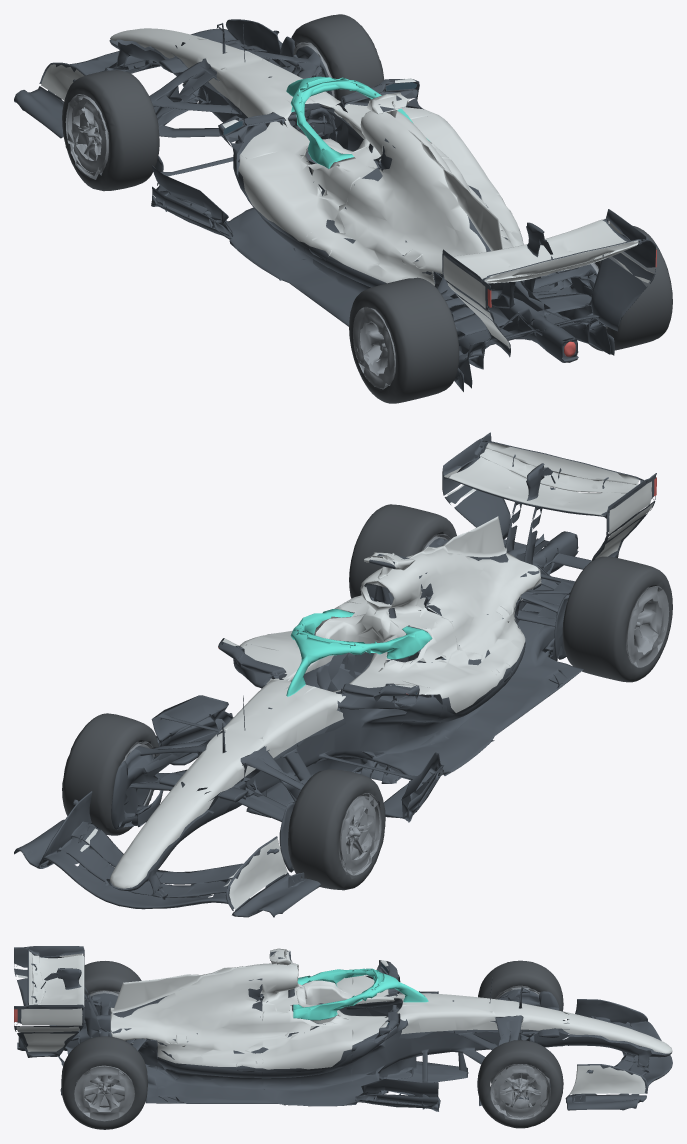
Rendered from mercedes-far.glb.
The picture shows the model from 3 angles, top to bottom: view 1: azimuth 30°, elevation 25°; view 2: azimuth 150°, elevation 25°; view 3: azimuth 270°, elevation 25°; orthographic projection. The views are drawn at different scales.
Parts seen in each view (by area): view 1: body, wheel2, wheel0, rearFlaps, frontFlaps, wheel1, wheel3, frontWing, rearWing; view 2: body, frontFlaps, wheel2, rearFlaps, wheel0, wheel1, frontWing, wheel3, rearWing; view 3: body, wheel3, frontFlaps, wheel1, rearFlaps, wheel0, frontWing, wheel2, rearWing.
Part boxes in pixels (x1=…): body: x1=149, y1=23, x2=647, y2=391; wheel2: x1=349, y1=277, x2=459, y2=403; wheel0: x1=62, y1=70, x2=159, y2=191; rearFlaps: x1=442, y1=209, x2=656, y2=312; frontFlaps: x1=25, y1=19, x2=280, y2=100; wheel1: x1=291, y1=14, x2=384, y2=100; wheel3: x1=589, y1=225, x2=672, y2=351; frontWing: x1=14, y1=40, x2=282, y2=138; rearWing: x1=445, y1=252, x2=655, y2=321; body: x1=111, y1=490, x2=647, y2=872; frontFlaps: x1=23, y1=781, x2=304, y2=912; wheel2: x1=562, y1=556, x2=672, y2=682; rearFlaps: x1=442, y1=432, x2=656, y2=535; wheel0: x1=288, y1=769, x2=385, y2=890; wheel1: x1=62, y1=713, x2=159, y2=835; frontWing: x1=14, y1=819, x2=320, y2=917; wheel3: x1=349, y1=504, x2=456, y2=598; rearWing: x1=444, y1=485, x2=655, y2=542; body: x1=17, y1=948, x2=569, y2=1111; wheel3: x1=61, y1=1036, x2=147, y2=1129; frontFlaps: x1=562, y1=999, x2=672, y2=1101; wheel1: x1=477, y1=1040, x2=563, y2=1128; rearFlaps: x1=14, y1=946, x2=88, y2=1025; wheel0: x1=478, y1=960, x2=563, y2=1011; frontWing: x1=565, y1=1019, x2=672, y2=1110; wheel2: x1=79, y1=961, x2=141, y2=1029; rearWing: x1=14, y1=968, x2=88, y2=1032.
Size of the model in its own units: 1.9 by 1.2 by 5.39.
